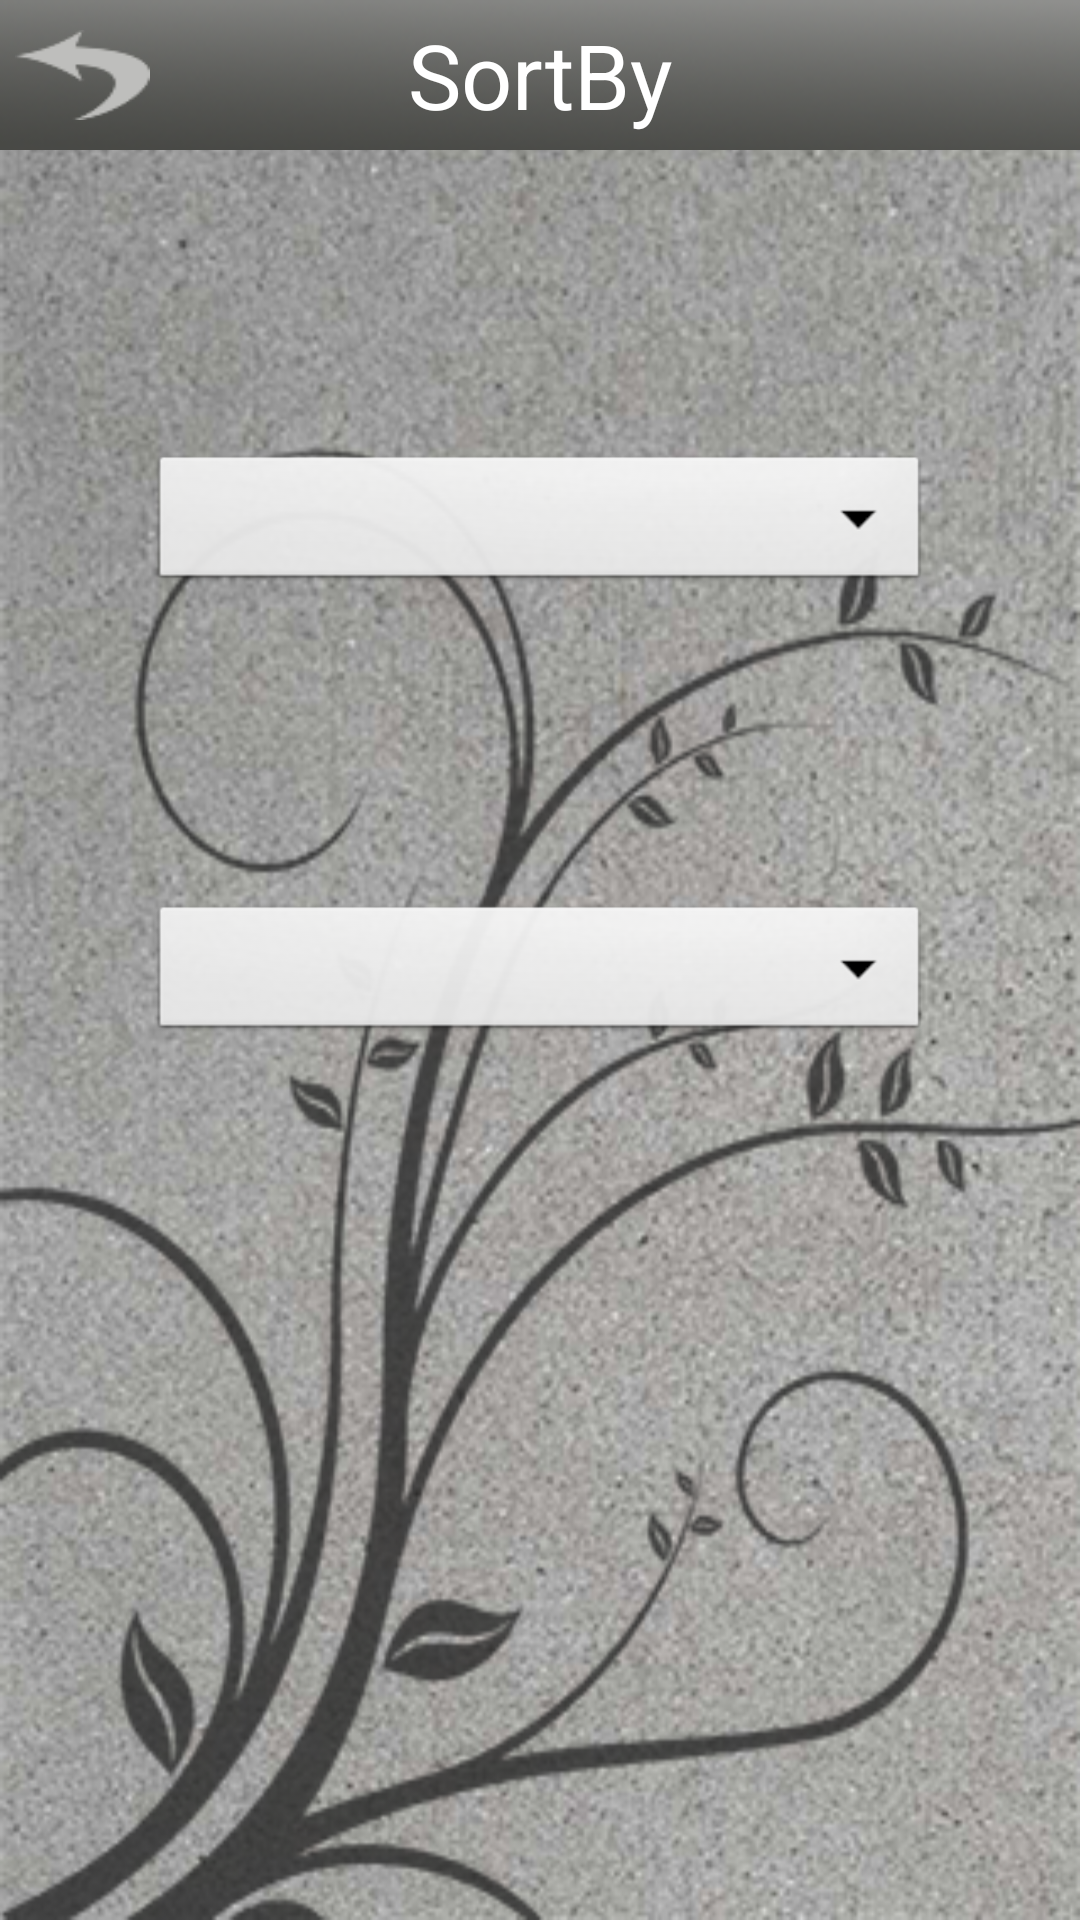

Named icons in this screenshot (1080w x 1920h) and their centers, (x=x, y=y):
backbutton: (x=82, y=75)
